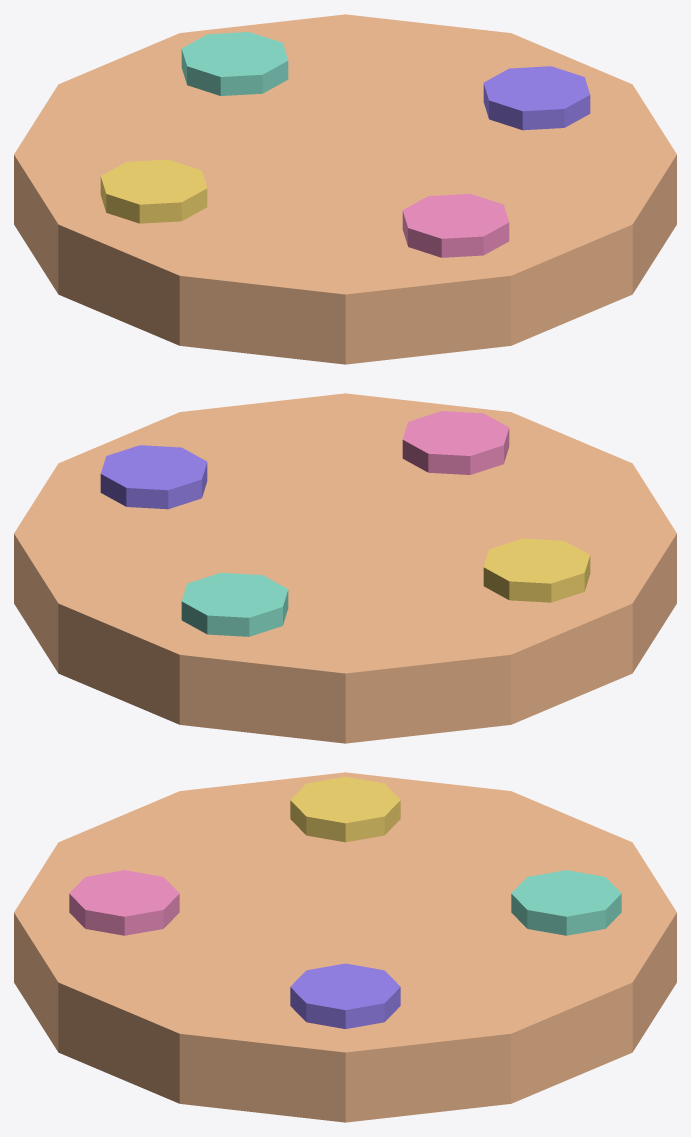
The picture shows the model from 3 angles, top to bottom: view 1: azimuth 30°, elevation 25°; view 2: azimuth 150°, elevation 25°; view 3: azimuth 270°, elevation 25°; orthographic projection.
Parts seen in each view (by area): view 1: Palette board, Paint patch, Paint patch.003, Paint patch.002, Paint patch.001; view 2: Palette board, Paint patch, Paint patch.001, Paint patch.002, Paint patch.003; view 3: Palette board, Paint patch.002, Paint patch, Paint patch.001, Paint patch.003.
Part boxes in pixels (box(x1,y1,x2,y2)): Palette board: box(14, 14, 676, 364); Paint patch: box(483, 66, 590, 130); Paint patch.003: box(402, 193, 509, 257); Paint patch.002: box(100, 159, 207, 223); Paint patch.001: box(181, 32, 288, 95); Palette board: box(14, 393, 676, 743); Paint patch: box(100, 445, 207, 509); Paint patch.001: box(181, 572, 288, 636); Paint patch.002: box(483, 538, 590, 602); Paint patch.003: box(402, 411, 509, 474); Palette board: box(14, 772, 676, 1122); Paint patch.002: box(290, 776, 400, 842); Paint patch: box(290, 963, 400, 1028); Paint patch.001: box(511, 870, 621, 935); Paint patch.003: box(69, 870, 179, 935).
Bounding box in the file's own units: 30 × 4.45 × 30.
